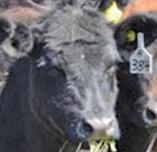muzzles: (71, 114, 122, 149)
